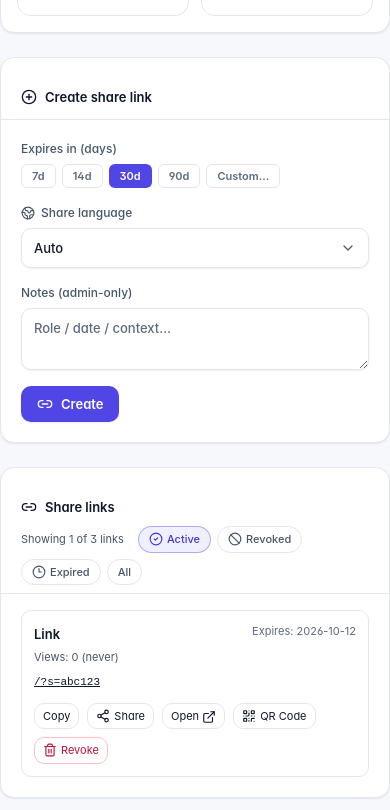
Test: AdminShareRoute › shows copy feedback after copying a link
(page scrolled)
Click the button "Copy" at {"x": 57, "y": 716}, box 34,702 -> 79,729
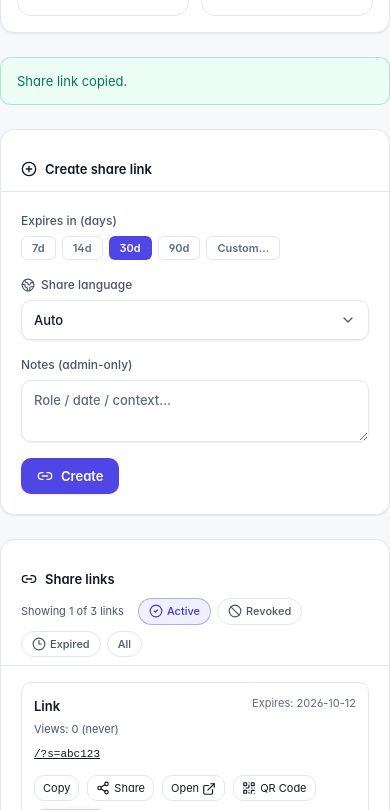
Now the text "Share link copied." is shown, box 0,57 -> 389,105
